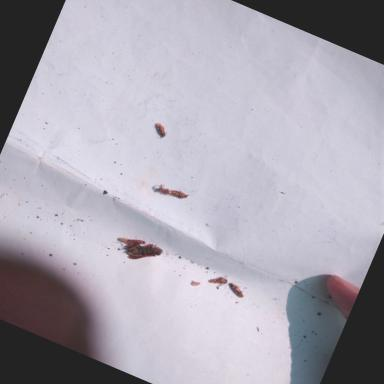pbw: (206, 270, 230, 290), (148, 120, 172, 140), (165, 184, 191, 202), (112, 232, 136, 250), (226, 282, 249, 298), (126, 232, 146, 249)
